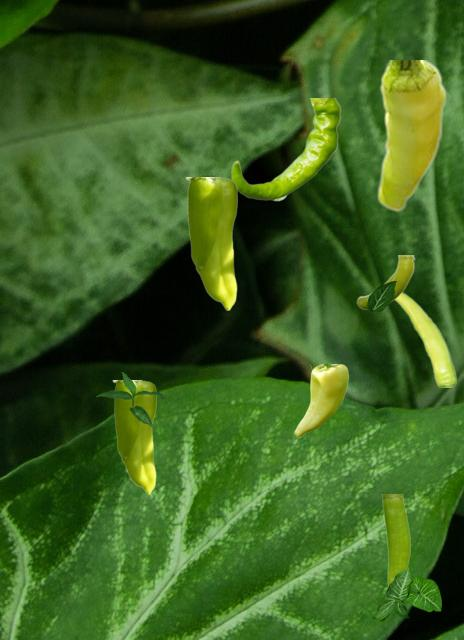green_chili: (231, 98, 340, 200), (376, 60, 446, 211), (185, 177, 236, 309), (395, 292, 455, 386), (112, 380, 155, 493), (294, 364, 347, 436), (356, 255, 414, 308), (381, 494, 409, 587)
